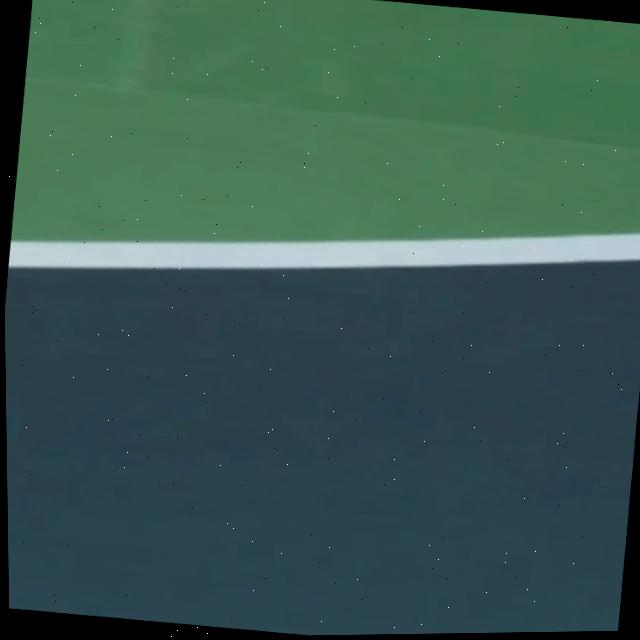right: (8, 232, 640, 268)
